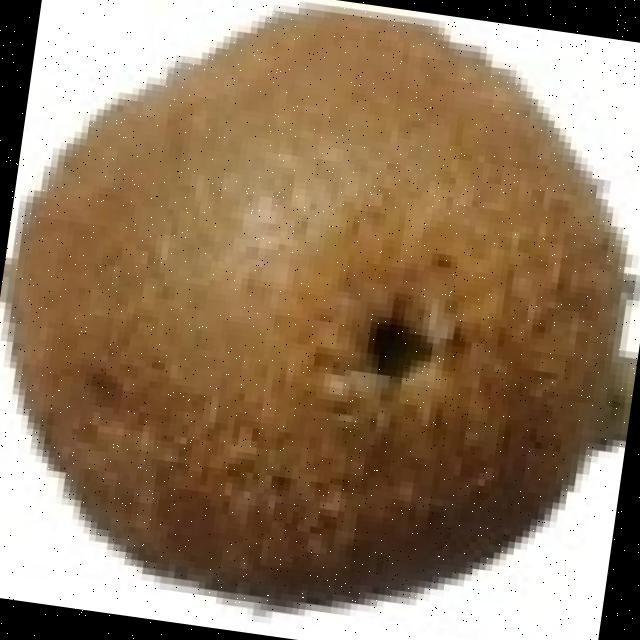kiwi: (8, 5, 634, 590)
